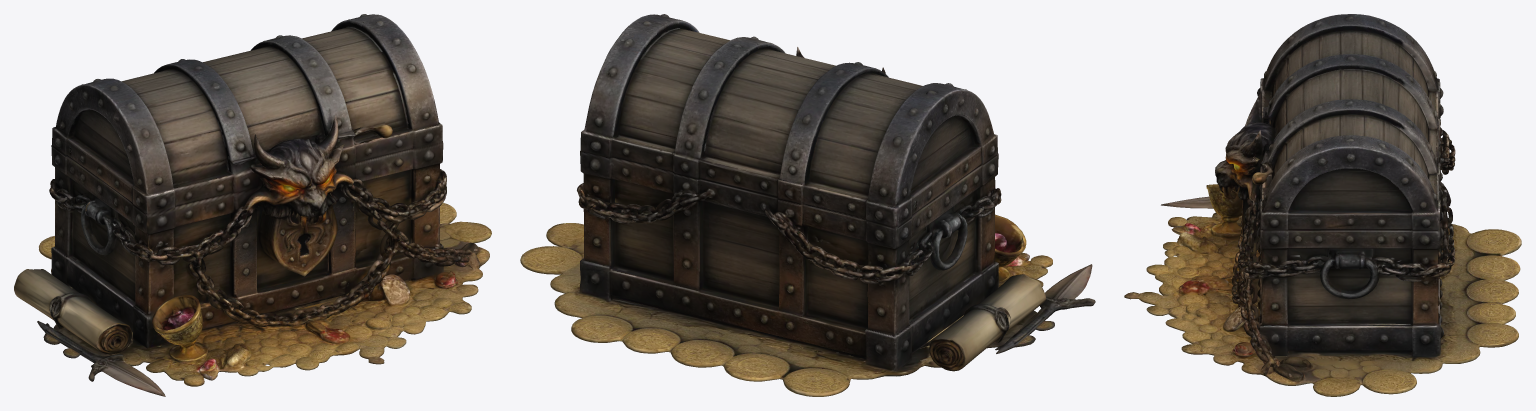
File: treasure-chest.glb
The picture shows the model from 3 angles, left to right: view 1: azimuth 30°, elevation 25°; view 2: azimuth 150°, elevation 25°; view 3: azimuth 270°, elevation 25°; orthographic projection. The views are drawn at different scales.
Parts seen in each view (by area): view 1: node_0; view 2: node_0; view 3: node_0.
Part boxes in pixels (x1=…): node_0: x1=14, y1=14, x2=491, y2=396; node_0: x1=520, y1=14, x2=1095, y2=396; node_0: x1=1124, y1=14, x2=1521, y2=396.
Bounding box in the file's own units: 1.03 × 0.4925 × 0.8291.
Materials: 1 (1 with a texture image).
